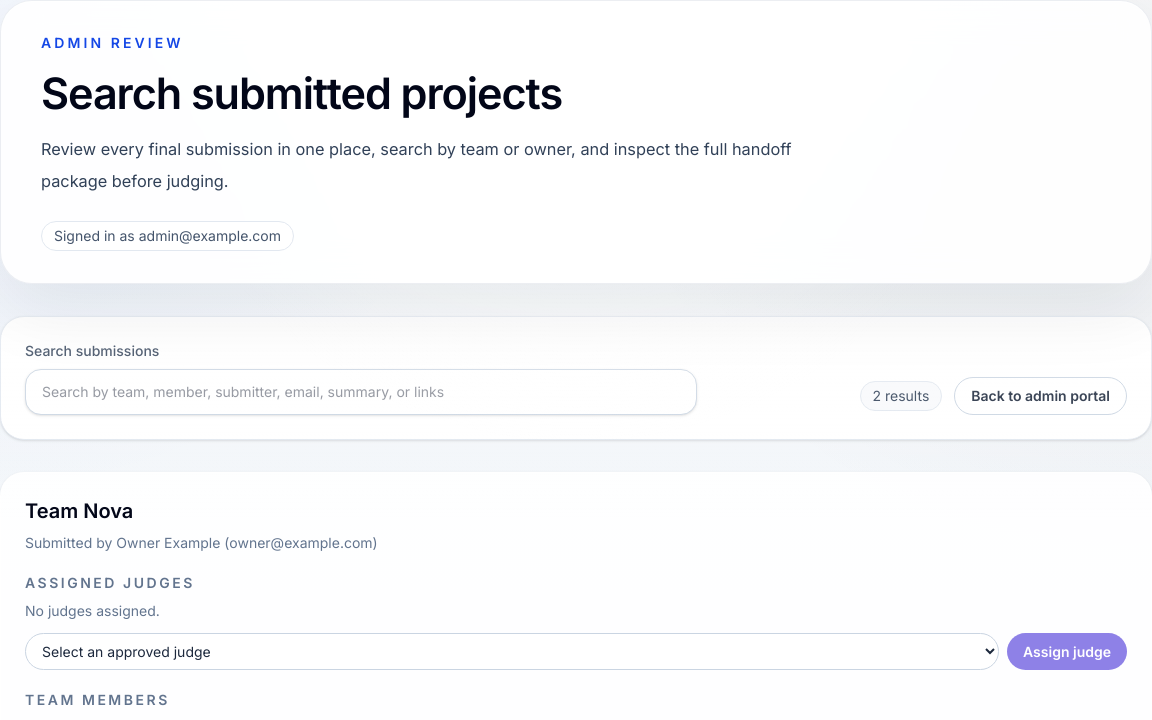
Scenario: AdminSubmissionsPage › loads admin submissions and filters them by search text
The image size is (1152, 720).
expect the heading "Team Nova" is shown: met, box [25,497,133,525]
Type "atlas" into the field labelled "Search submissions" at (361, 392), box [25,369,697,415]
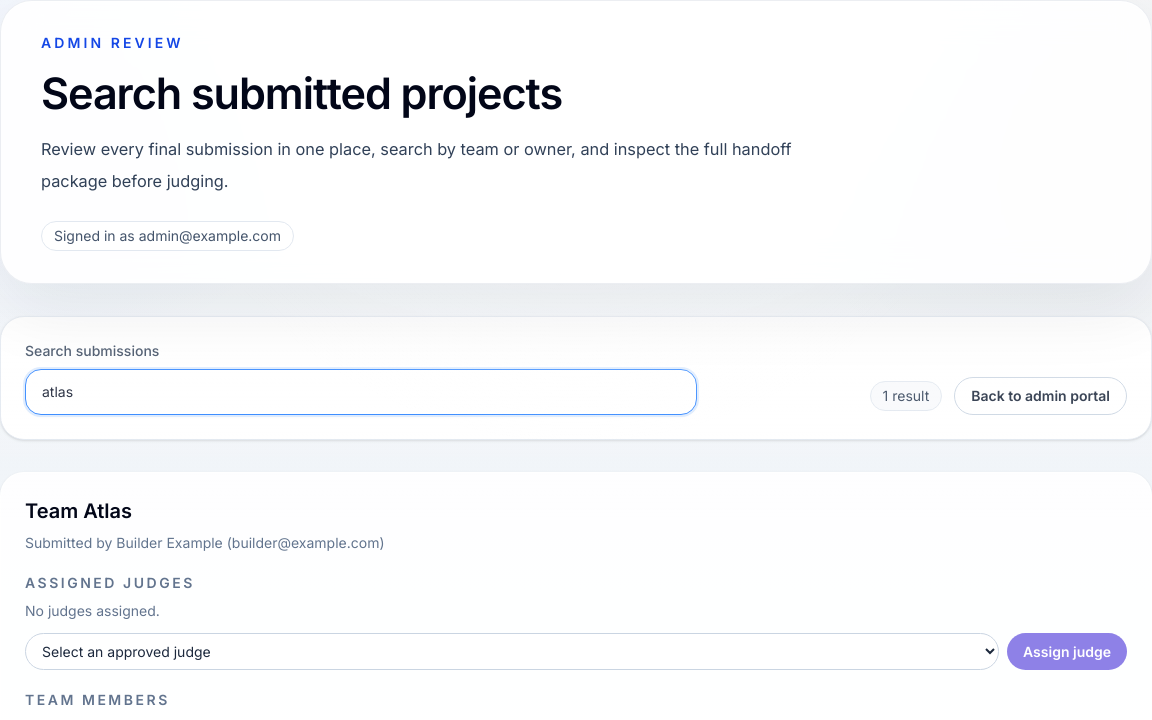
expect the heading "Team Atlas" is shown: met, box [25,497,132,525]
expect the heading "Team Nova" is gone: met
expect the text "1 result" is shown: met, box [870,381,942,411]
